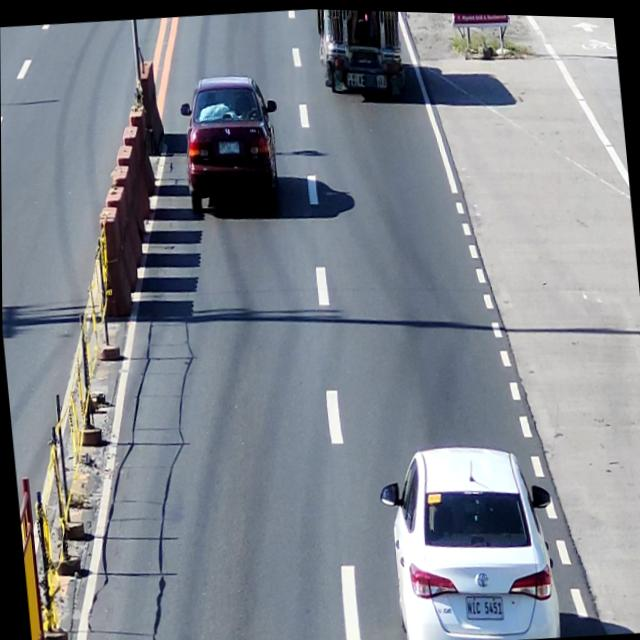Car: (358, 408, 573, 640), (172, 55, 289, 230)
Jeep: (312, 7, 410, 100)
License-Plate: (459, 580, 506, 624), (215, 132, 243, 162), (354, 44, 378, 65)
